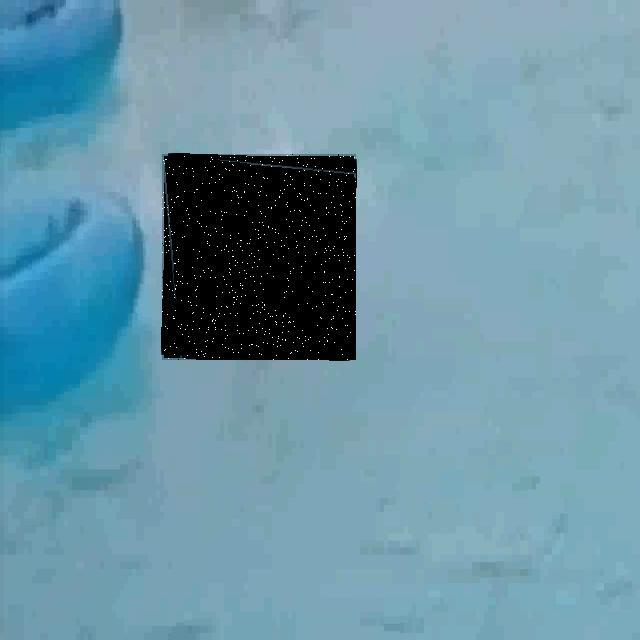Out of Water: (162, 154, 356, 360)
